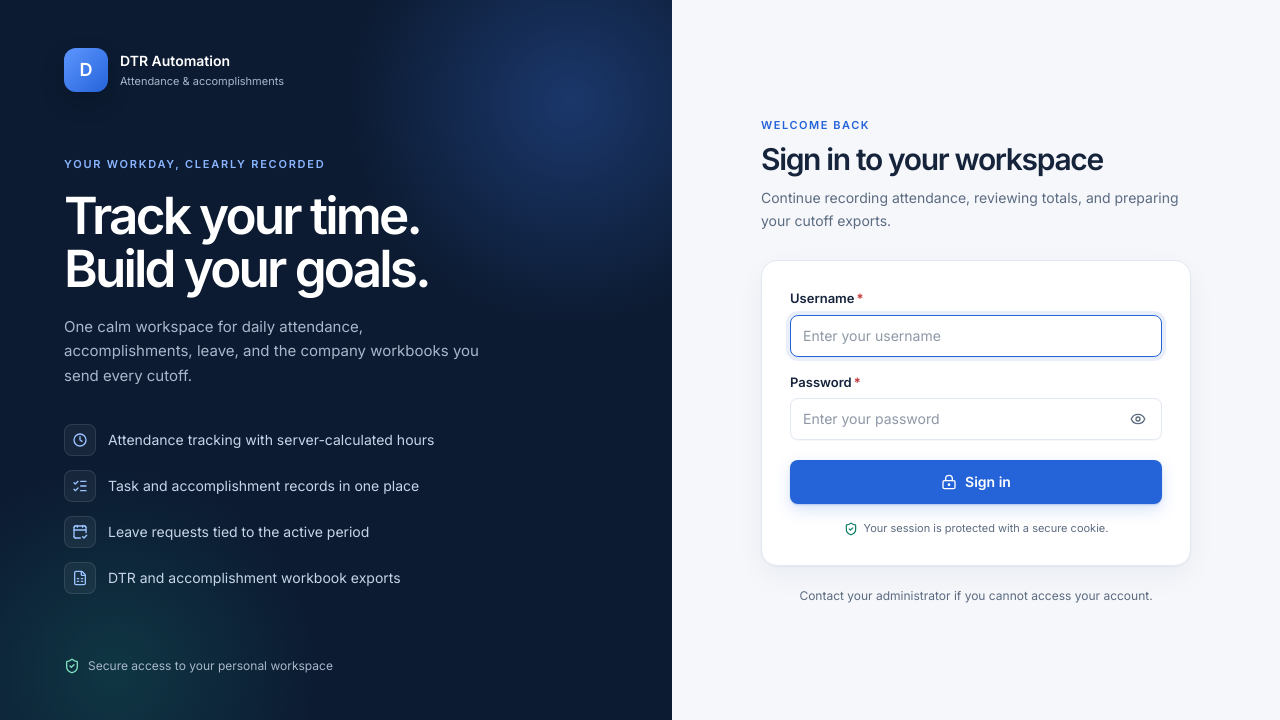
Test: LoginView › shows a local error when fields are empty
Click the button "Sign in". click: (976, 482)
box: x1=790 y1=460 x2=1162 y2=504
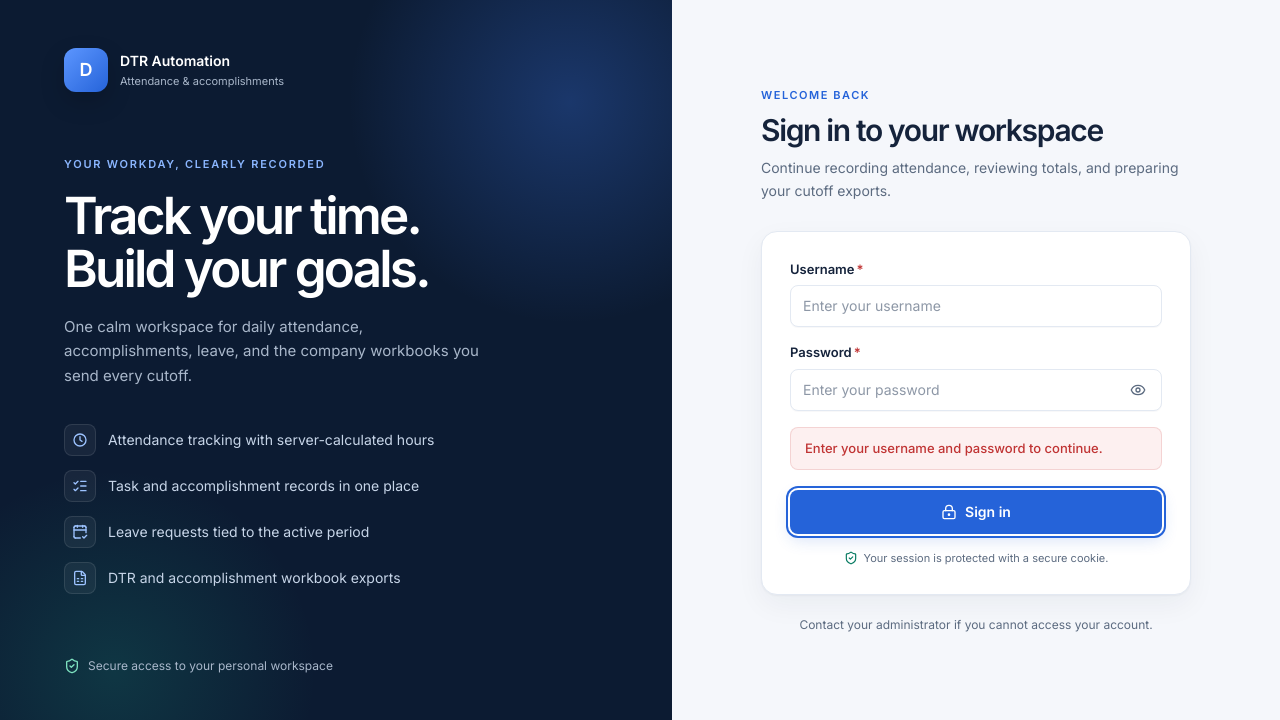
Now the message shows "Enter your username and password", box x1=805 y1=440 x2=1103 y2=456
